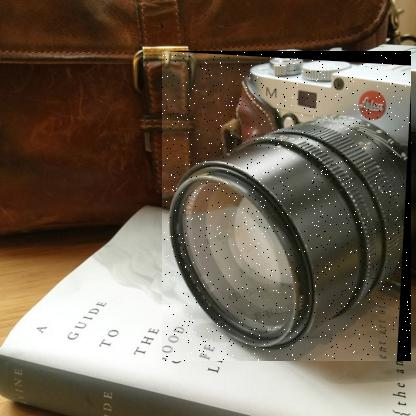Camera: (163, 52, 413, 363)
